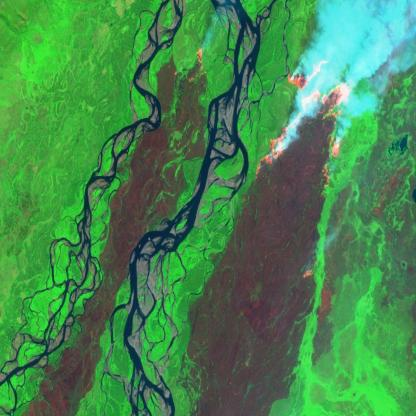fire: (250, 52, 356, 194), (167, 44, 213, 94), (296, 259, 318, 287)
